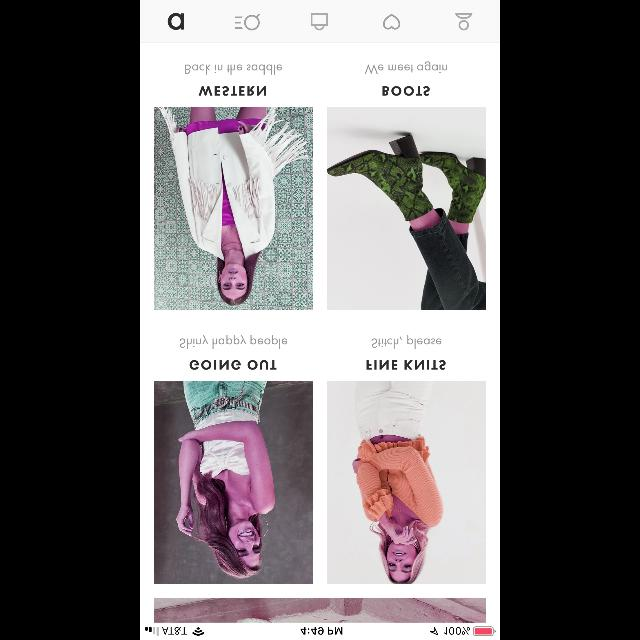icon: (236, 14, 260, 31), (312, 14, 328, 31), (456, 14, 472, 31), (384, 15, 401, 30)
image: (154, 106, 314, 310), (154, 381, 314, 584), (328, 106, 487, 310), (328, 381, 487, 584), (154, 598, 486, 622)
text: (180, 336, 288, 348), (185, 64, 282, 76), (365, 61, 447, 74), (190, 360, 276, 370), (372, 336, 442, 348), (366, 359, 446, 369), (199, 86, 267, 96), (382, 86, 430, 96), (168, 12, 185, 30)
uppertaskbar: (140, 626, 500, 640)
